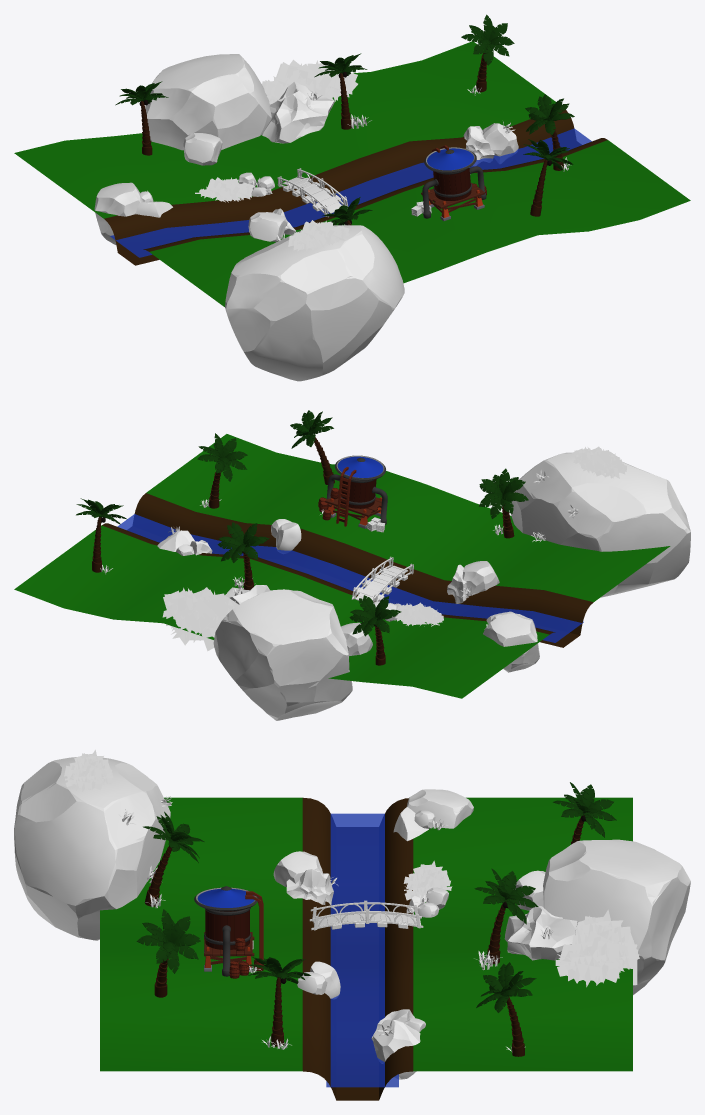
The model's file is Riviere.fbx.
3 views of the same model, one above another, from view 1: azimuth 30°, elevation 25°; view 2: azimuth 150°, elevation 25°; view 3: azimuth 270°, elevation 25° (orthographic). The views are drawn at different scales.
Visible parts, largest first — view 1: Plane001, GeoSphere018, GeoSphere015, Object002, Box008, GeoSphere016, Plane020, GeoSphere005, Box012, Cylinder027, Cylinder022, Plane022 (+8 smaller); view 2: Plane001, GeoSphere018, GeoSphere015, Object002, Box008, Plane020, GeoSphere005, Cylinder044, Cylinder045, Cylinder028, Cylinder022, Box012 (+9 smaller); view 3: Plane001, GeoSphere018, Object002, GeoSphere015, Plane020, Box008, GeoSphere016, Cylinder026, Box012, Cylinder028, Cylinder027, GeoSphere005 (+11 smaller).
Boxes of the visible parts, <box> form: Plane001: <box>14,41,690,306</box>; GeoSphere018: <box>225,225,404,381</box>; GeoSphere015: <box>145,54,271,150</box>; Object002: <box>110,128,591,257</box>; Box008: <box>421,145,486,221</box>; GeoSphere016: <box>262,81,334,143</box>; Plane020: <box>262,59,357,104</box>; GeoSphere005: <box>94,182,142,245</box>; Box012: <box>277,168,348,217</box>; Cylinder027: <box>461,14,514,92</box>; Cylinder022: <box>525,94,574,170</box>; Plane022: <box>288,220,349,251</box>; Plane001: <box>14,434,670,698</box>; GeoSphere018: <box>510,452,690,597</box>; GeoSphere015: <box>213,589,352,720</box>; Object002: <box>117,514,583,642</box>; Box008: <box>325,455,387,528</box>; Plane020: <box>161,587,238,651</box>; GeoSphere005: <box>483,613,539,672</box>; Cylinder044: <box>479,468,528,538</box>; Cylinder045: <box>349,595,401,665</box>; Cylinder028: <box>217,522,269,589</box>; Cylinder022: <box>197,433,247,508</box>; Box012: <box>351,556,413,602</box>; Plane001: <box>100,797,632,1100</box>; GeoSphere018: <box>14,757,170,940</box>; Object002: <box>326,813,398,1087</box>; GeoSphere015: <box>543,839,690,994</box>; Plane020: <box>555,909,639,987</box>; Box008: <box>194,886,263,976</box>; GeoSphere016: <box>504,904,577,960</box>; Cylinder026: <box>136,909,200,997</box>; Box012: <box>309,900,423,930</box>; Cylinder028: <box>474,868,538,964</box>; Cylinder027: <box>476,962,536,1056</box>; GeoSphere005: <box>406,789,473,828</box>.
Size of the model in its own units: 13376 by 4020 by 13648.
